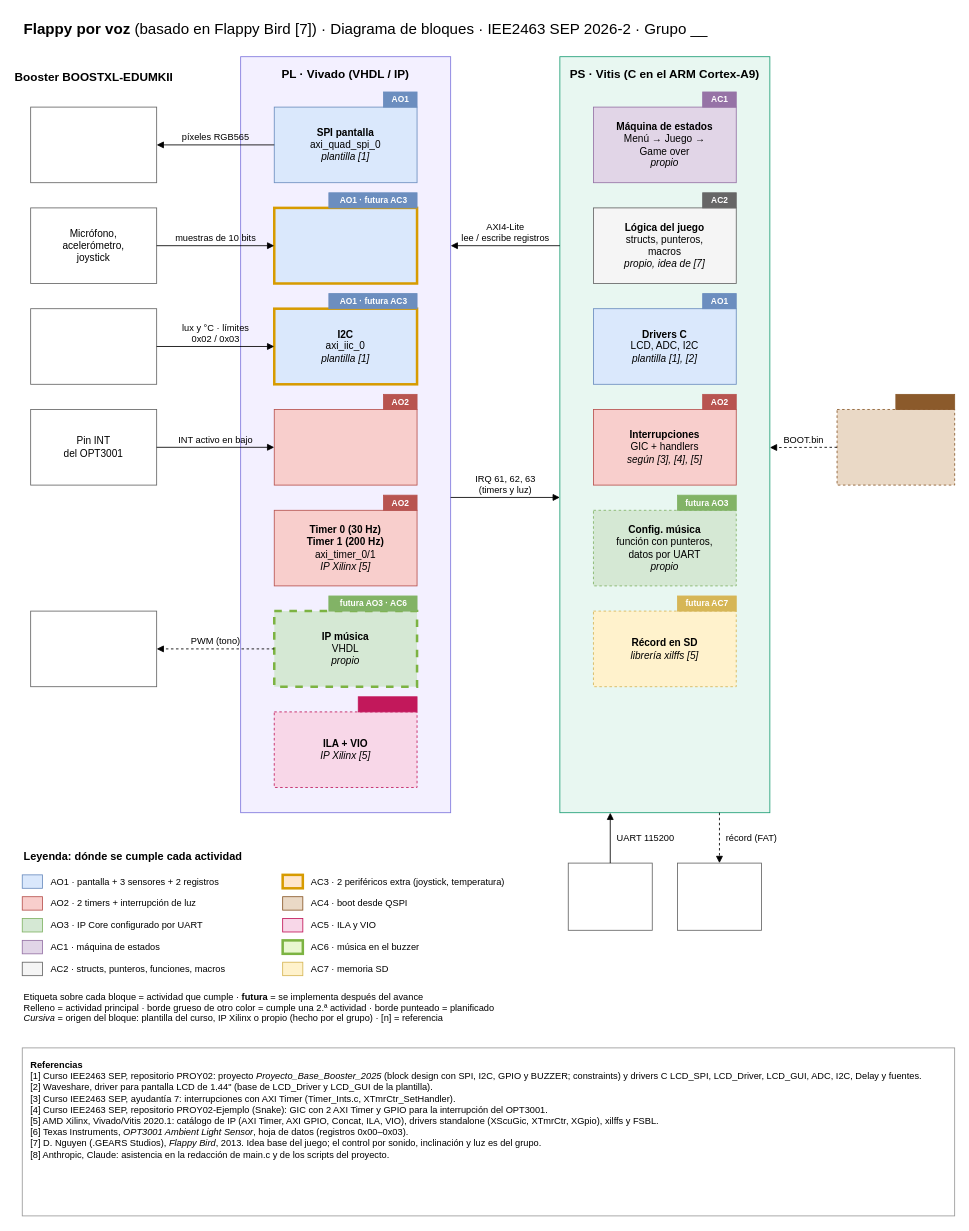
The diagram is 969 pixels wide and 1231 high, and some of its shapes have lost their labels. Each missing label, with the centre of its shape:
"Buzzer" belongs at (x=93, y=648).
"futura AC4" belongs at (x=925, y=402).
"futura AC5" belongs at (x=387, y=704).
"GPIO de luz axi_gpio_luz IP Xilinx [5], como en [4]" belongs at (x=345, y=447).
"Memoria QSPI boot FSBL de Xilinx [5]" belongs at (x=895, y=447).
"OPT3001 (luz) [6] TMP006 (temperatura)" belongs at (x=93, y=346).
"Pantalla LCD 128×128" belongs at (x=93, y=144).
"PC (consola UART)" belongs at (x=609, y=896).
"SPI del ADC axi_quad_spi_1 plantilla [1]" belongs at (x=345, y=245).
"Tarjeta SD" belongs at (x=719, y=896).
